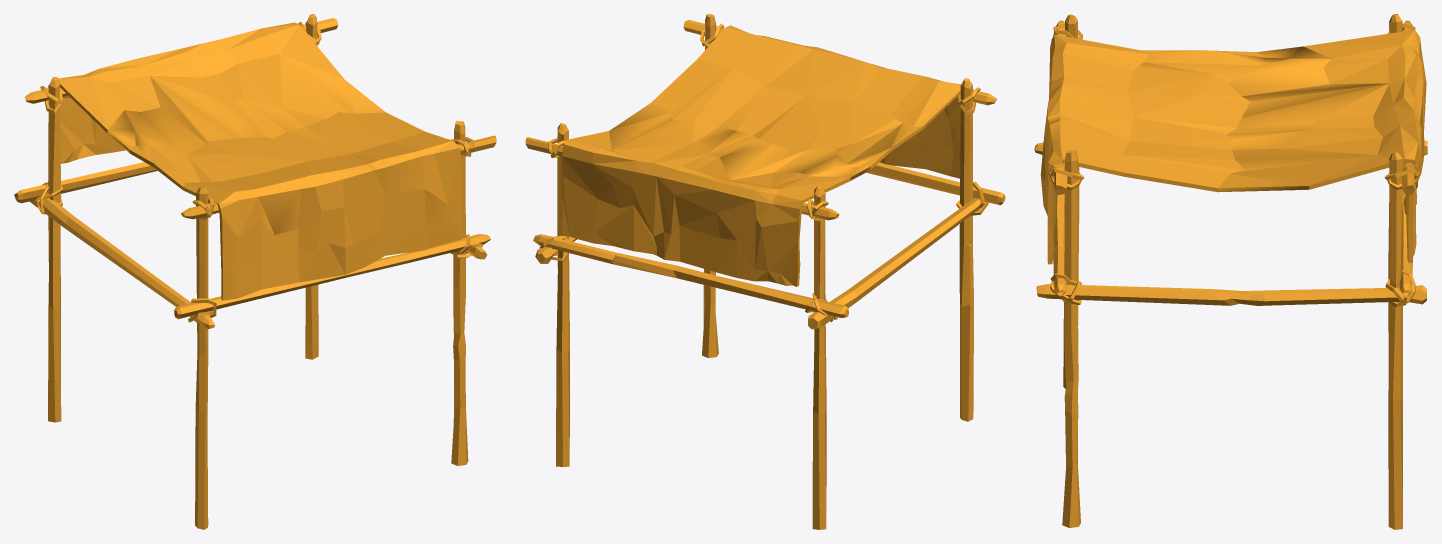
File: SM_Market_Stall_A_Flat_Stripes.fbx
3 views of the same model, side by side, from view 1: azimuth 30°, elevation 25°; view 2: azimuth 150°, elevation 25°; view 3: azimuth 270°, elevation 25° (orthographic). The views are drawn at different scales.
Parts seen in each view (by area): view 1: market-stall-a-flat-stripes; view 2: market-stall-a-flat-stripes; view 3: market-stall-a-flat-stripes.
Part boxes in pixels (x1,y1,x2,y2): market-stall-a-flat-stripes: (14, 14, 496, 529); market-stall-a-flat-stripes: (525, 14, 1005, 529); market-stall-a-flat-stripes: (1034, 14, 1427, 529).
Size of the model in its own units: 3.74 by 3.83 by 3.62.
